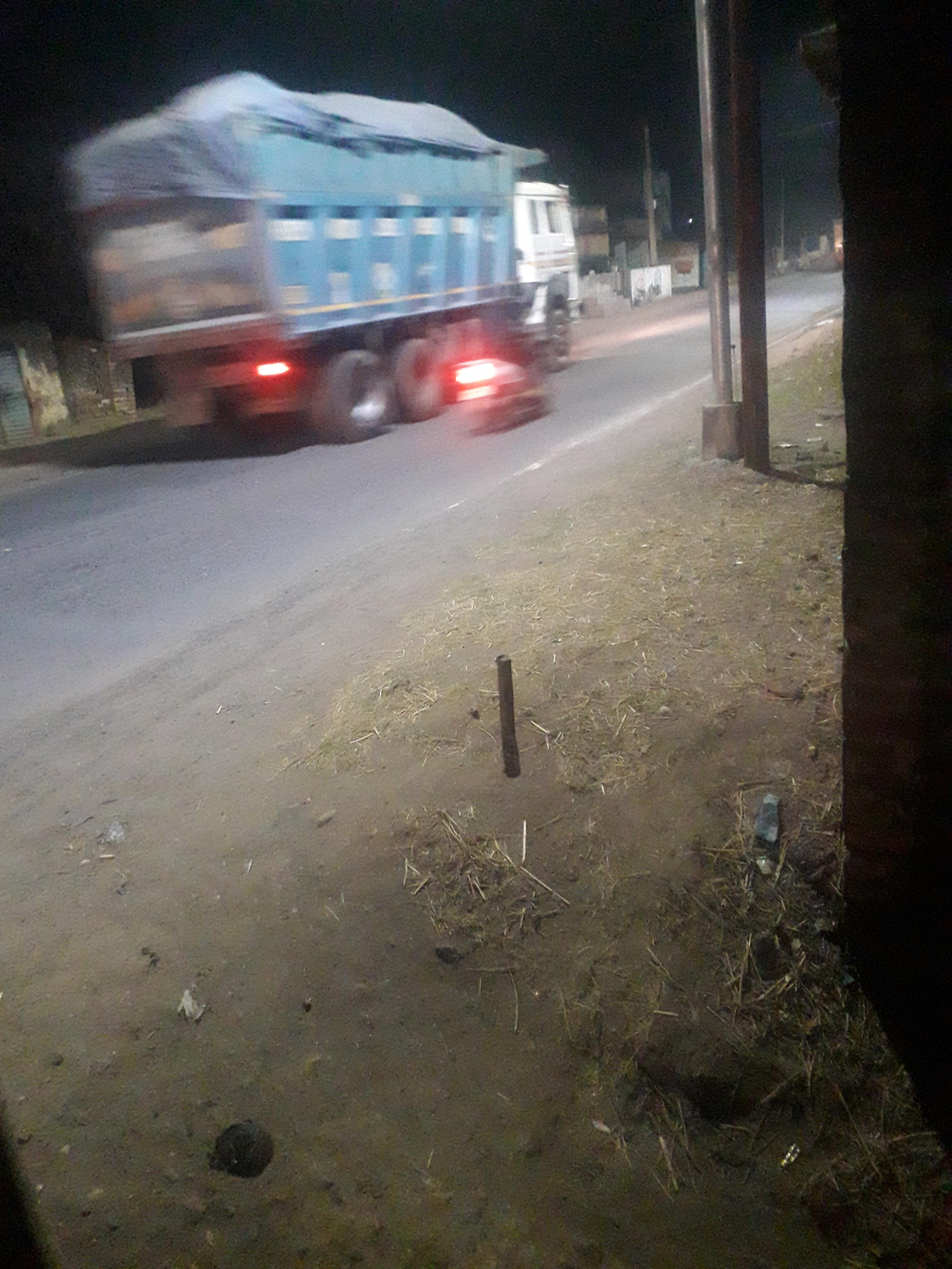Non-emergency: (66, 14, 614, 503)
